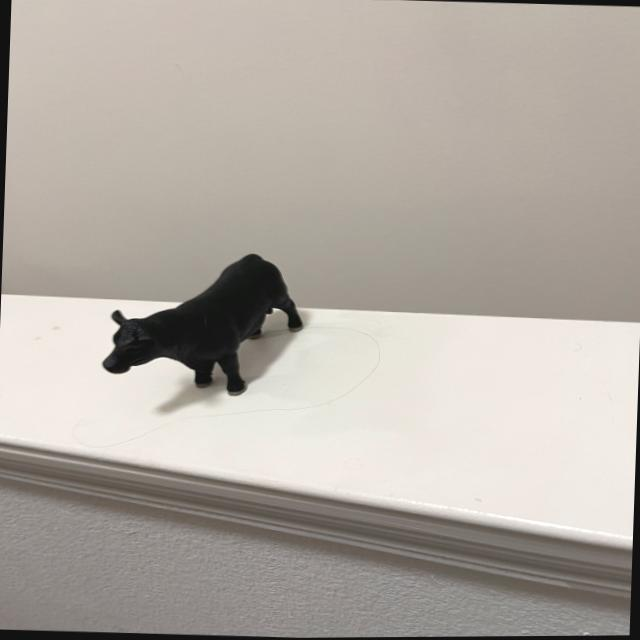cow: (85, 245, 318, 438)
